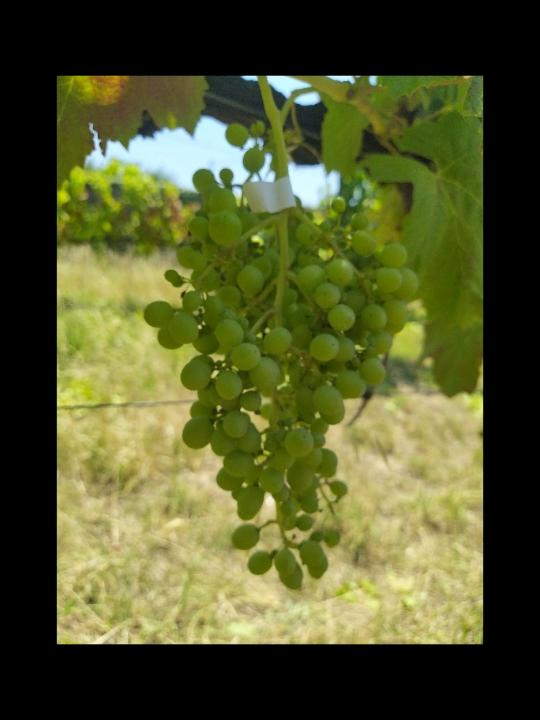grape: (143, 166, 423, 593)
